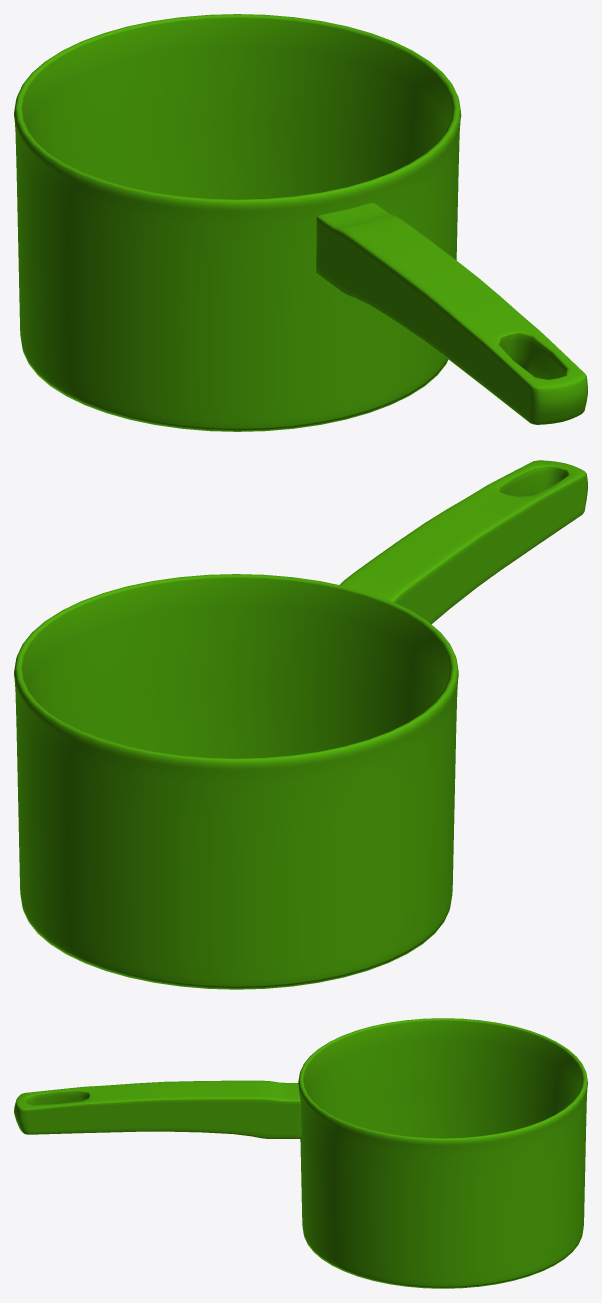
File: Pot.fbx
The picture shows the model from 3 angles, top to bottom: view 1: azimuth 30°, elevation 25°; view 2: azimuth 150°, elevation 25°; view 3: azimuth 270°, elevation 25°; orthographic projection. The views are drawn at different scales.
Parts seen in each view (by area): view 1: Pot; view 2: Pot; view 3: Pot.
Boxes of the visible parts, bbox=[...] form: Pot: bbox=[14, 14, 587, 431]; Pot: bbox=[14, 460, 587, 989]; Pot: bbox=[14, 1018, 587, 1288].
Size of the model in its own units: 118 by 68.81 by 234.
